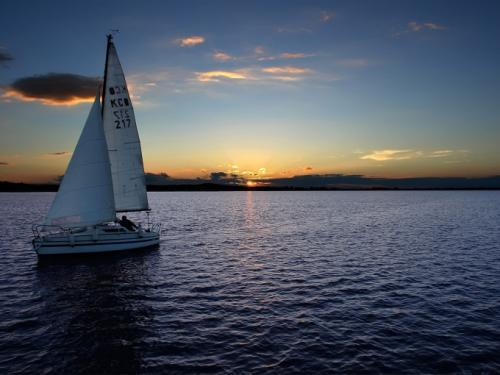fanchuan: (32, 28, 174, 260)
